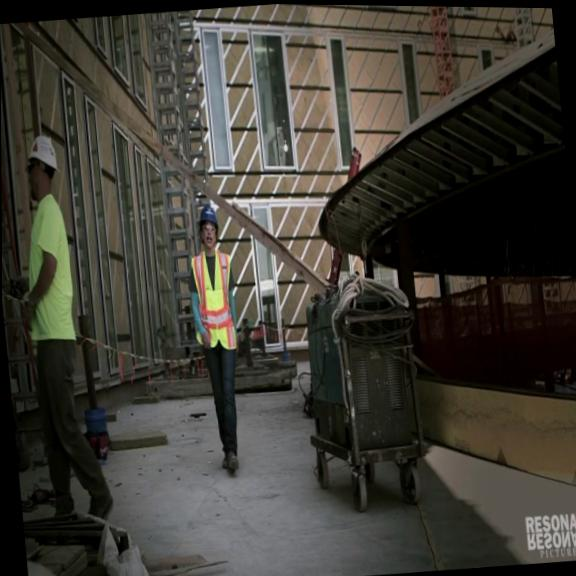safety_vest: (189, 246, 237, 352)
